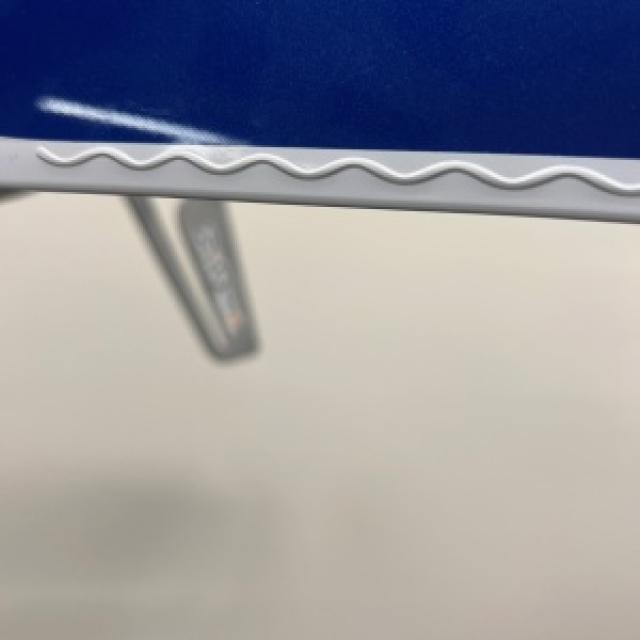healthy: (0, 0, 638, 638), (0, 0, 638, 356), (128, 196, 256, 358)
